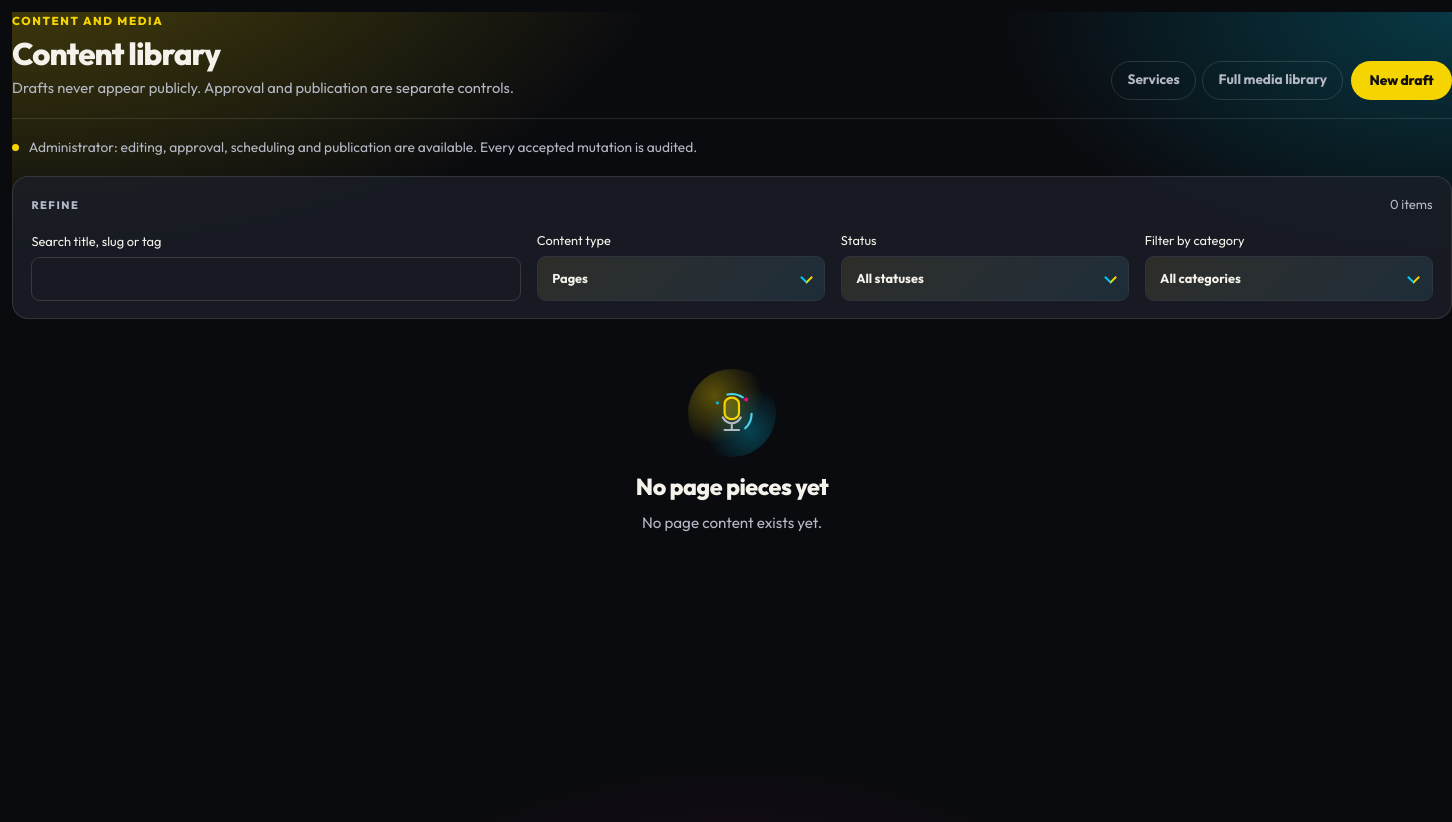
Test: reloads the collection and retargets New draft when the type changes
expect the text "No page content exists yet." is shown: met, box [642,511,822,535]
What coordinates should you click on to do the following:
click the button with aria-label "Content type"
I would click on:
 (570, 278)
Its box is [537,256,825,301].
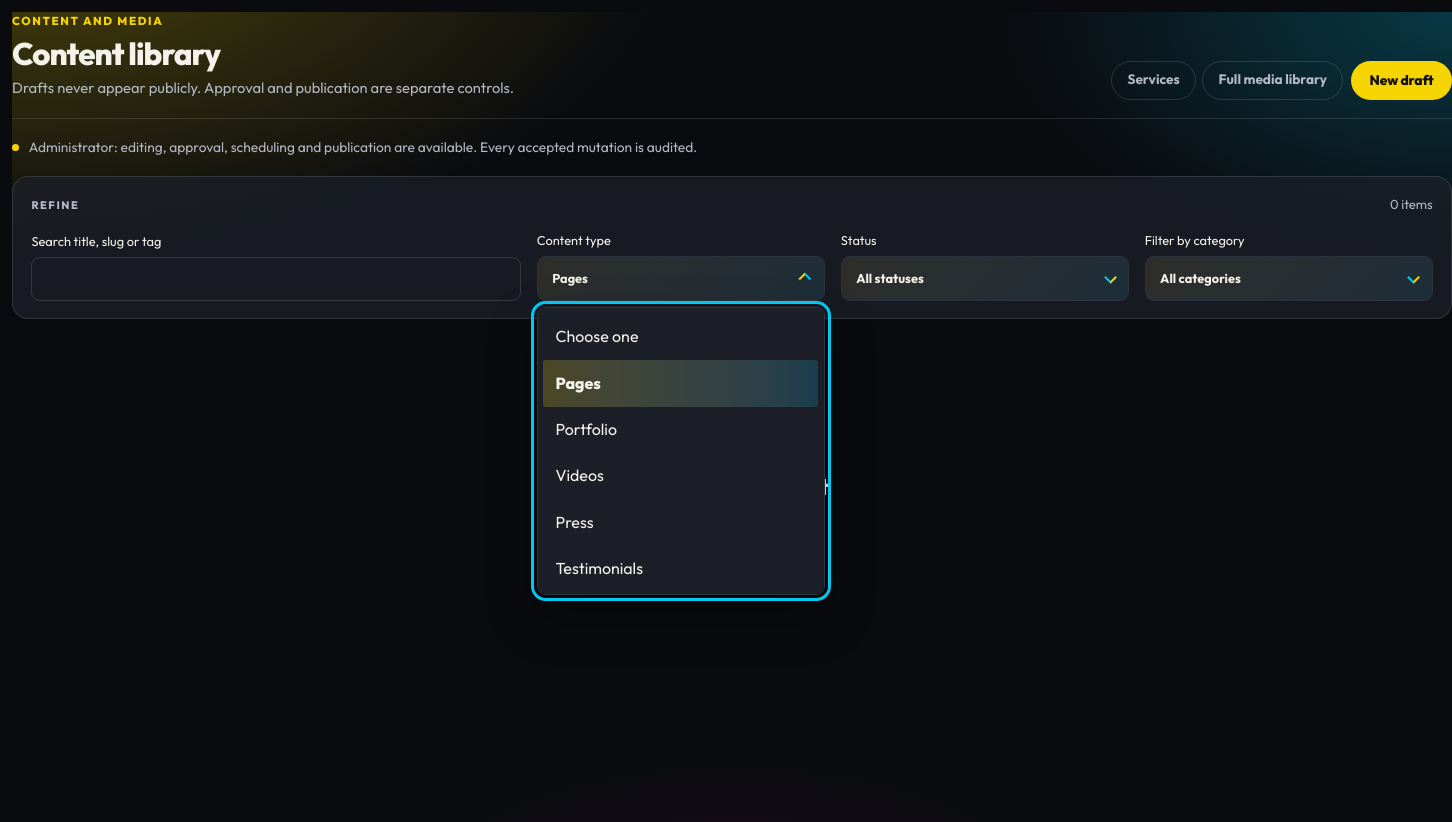
What coordinates should you click on to do the following:
click the option "Portfolio"
I would click on:
 (586, 429)
Its box is [555,419,617,439].
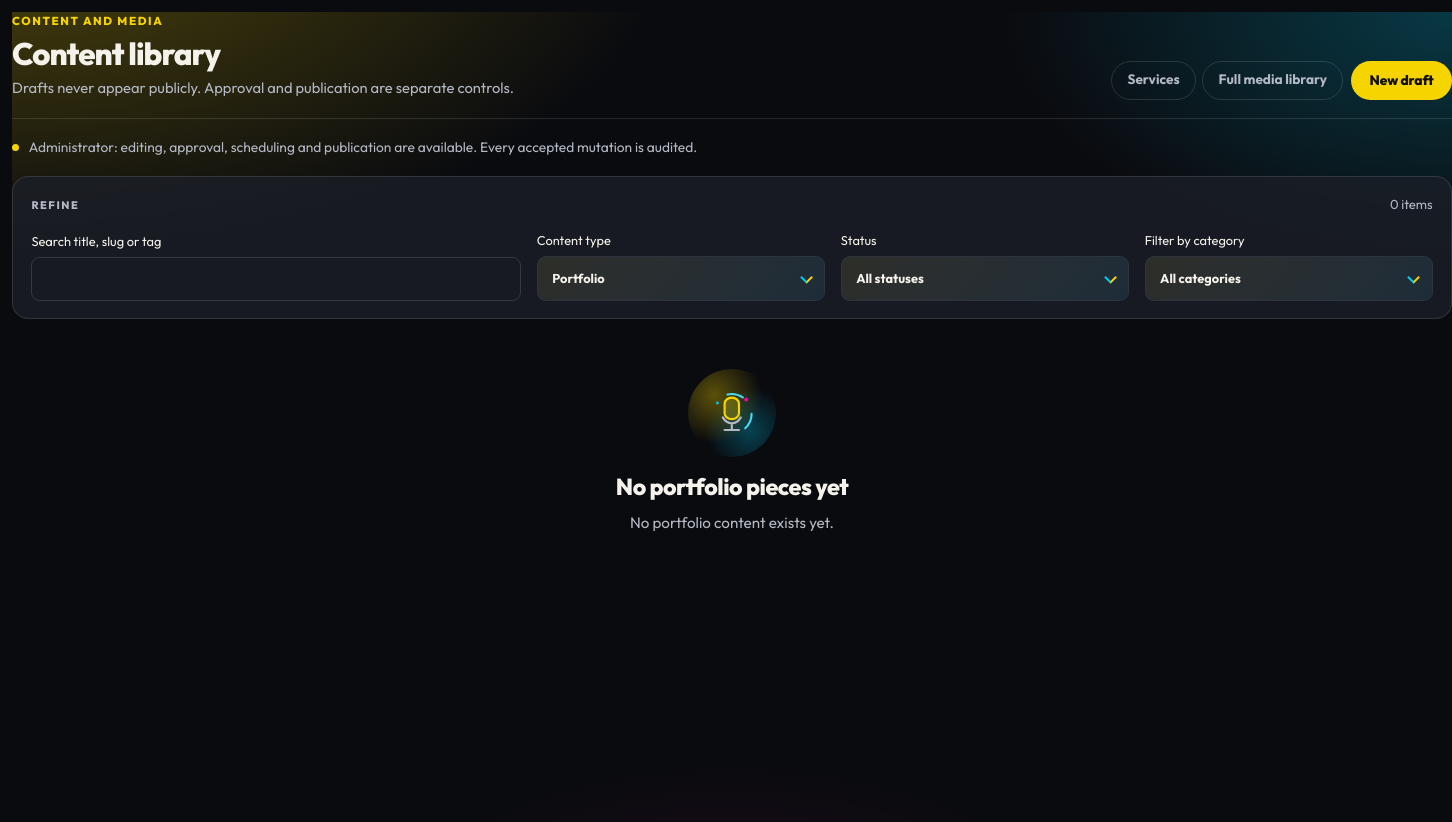
expect the text "No portfolio content exists yet." is shown: met, box [630,511,834,535]
